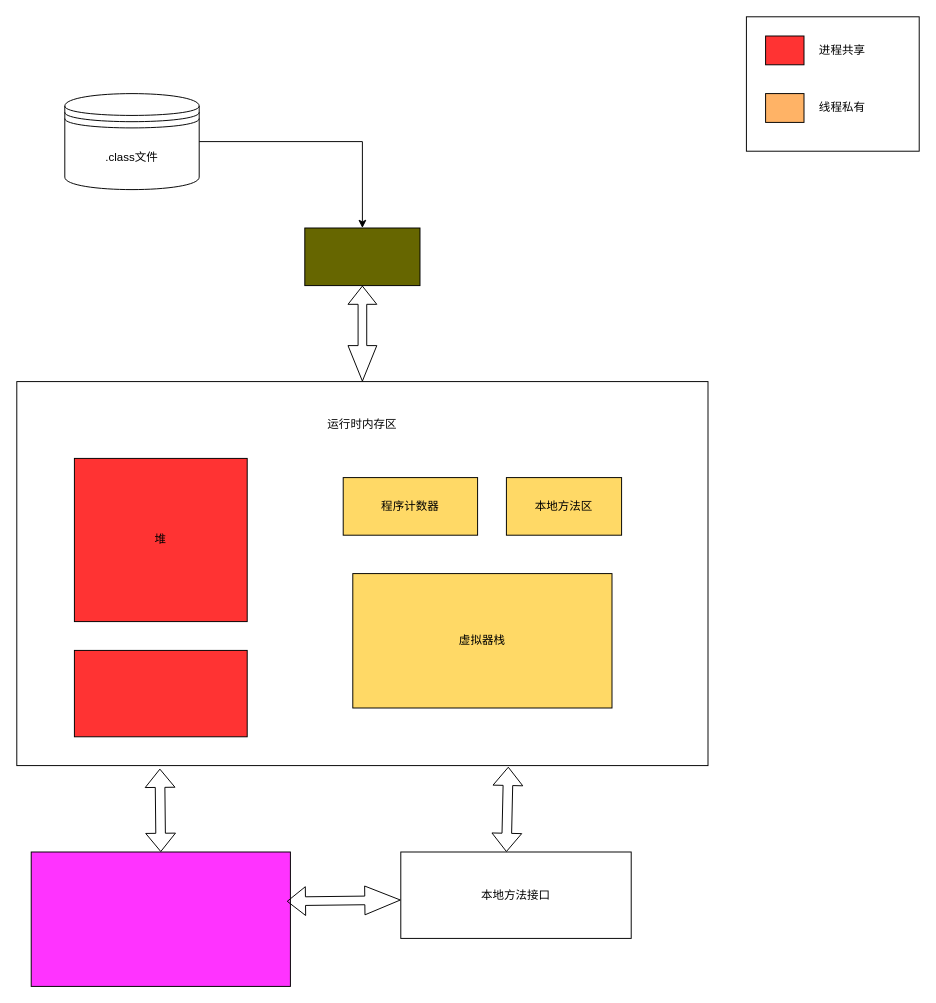
This 936x1003 diagram has some shape labels left out. The box of each missing label's shape, as (x1, y1, x2, y2) in pixels:
执行引擎: (30, 851, 290, 986)
方法区: (73, 649, 247, 737)
类加载器: (304, 227, 420, 286)
